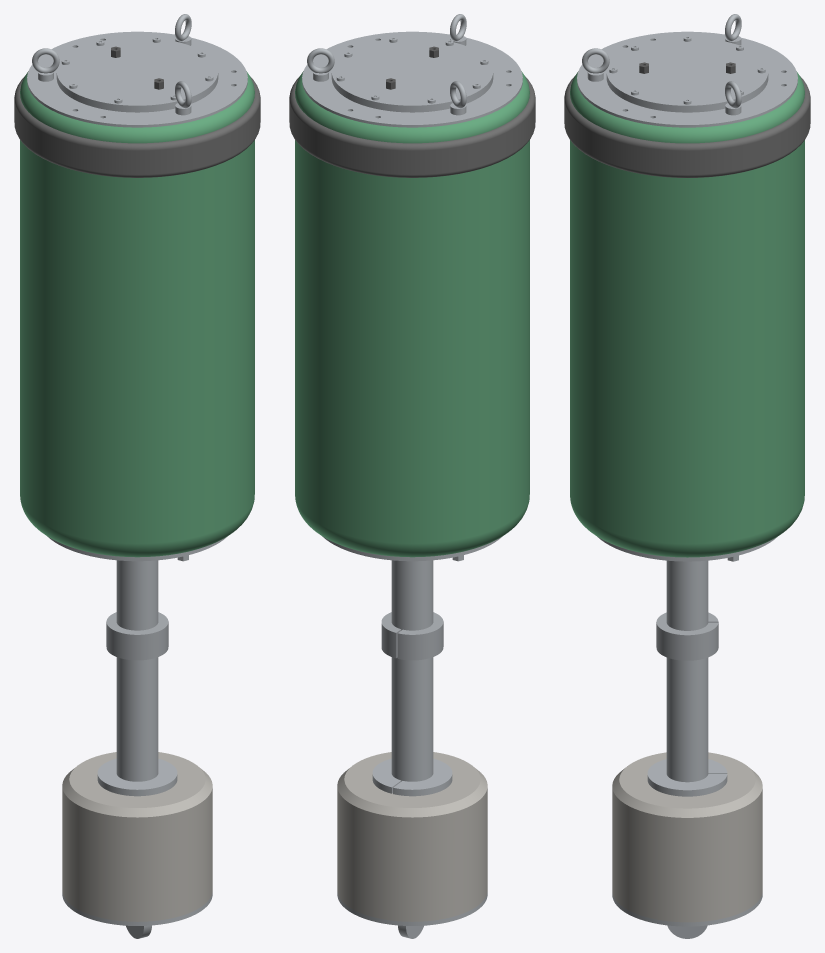
Rendered from step_03.glb.
3 renders of one model, left to right at view 1: azimuth 30°, elevation 25°; view 2: azimuth 150°, elevation 25°; view 3: azimuth 270°, elevation 25°, orthographic.
Parts seen in each view (by area): view 1: part__float hull, part__ballast ring, part__fender ring, part__tail tube, part__hatch lid, part__deck plate, part__zinc anode, part__ballast collar, part__keel plate, part__equipment canister, part__lifting eye nut 2; view 2: part__float hull, part__ballast ring, part__fender ring, part__tail tube, part__hatch lid, part__deck plate, part__zinc anode, part__ballast collar, part__keel plate, part__equipment canister, part__lifting eye nut 1; view 3: part__float hull, part__ballast ring, part__fender ring, part__tail tube, part__hatch lid, part__deck plate, part__zinc anode, part__ballast collar, part__keel plate, part__equipment canister, part__lifting eye nut 3.
Part boxes in pixels (bbox=[...]): part__float hull: bbox=[20, 71, 254, 557]; part__ballast ring: bbox=[62, 752, 212, 921]; part__fender ring: bbox=[14, 76, 260, 177]; part__tail tube: bbox=[62, 560, 212, 925]; part__hatch lid: bbox=[56, 37, 218, 108]; part__deck plate: bbox=[27, 31, 247, 127]; part__zinc anode: bbox=[106, 612, 168, 660]; part__ballast collar: bbox=[97, 758, 177, 796]; part__keel plate: bbox=[47, 536, 227, 561]; part__equipment canister: bbox=[56, 76, 218, 112]; part__lifting eye nut 2: bbox=[32, 48, 59, 81]; part__float hull: bbox=[295, 71, 529, 557]; part__ballast ring: bbox=[337, 752, 487, 921]; part__fender ring: bbox=[289, 76, 535, 177]; part__tail tube: bbox=[337, 560, 487, 925]; part__hatch lid: bbox=[331, 37, 493, 108]; part__deck plate: bbox=[302, 31, 522, 127]; part__zinc anode: bbox=[381, 612, 443, 660]; part__ballast collar: bbox=[372, 758, 452, 796]; part__keel plate: bbox=[322, 536, 502, 561]; part__equipment canister: bbox=[331, 76, 493, 112]; part__lifting eye nut 1: bbox=[307, 48, 334, 81]; part__float hull: bbox=[570, 71, 804, 557]; part__ballast ring: bbox=[612, 752, 762, 922]; part__fender ring: bbox=[564, 76, 810, 177]; part__tail tube: bbox=[612, 560, 762, 926]; part__hatch lid: bbox=[606, 37, 768, 109]; part__deck plate: bbox=[577, 31, 797, 127]; part__zinc anode: bbox=[656, 612, 718, 660]; part__ballast collar: bbox=[647, 759, 727, 796]; part__keel plate: bbox=[597, 536, 777, 561]; part__equipment canister: bbox=[606, 77, 768, 112]; part__lifting eye nut 3: bbox=[582, 48, 609, 81].
Bounding box in the file's own units: 524 × 2085 × 524.
